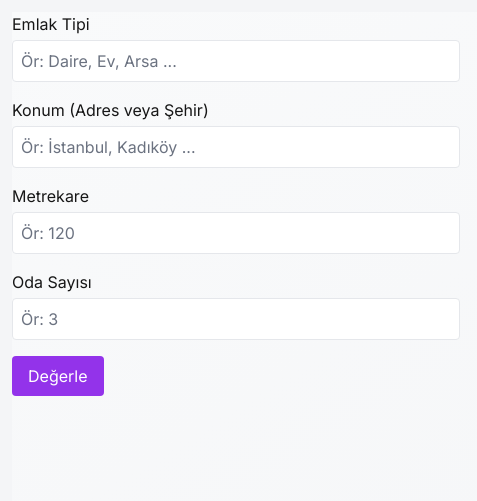
Test case: PropertyForm Bileşeni › API hatası durumunda hata mesajı gösterir
// Form alanlarını doldur ve gönder
Step 1. Type "Daire" into the field with test id "property-type-input" → (236, 61), box [12,40,460,82]
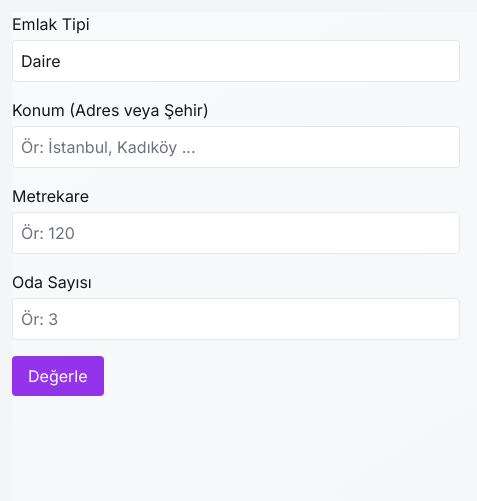
Step 2. Type "İstanbul, Kadıköy" into the field with test id "location-input" → (236, 147), box [12,126,460,168]
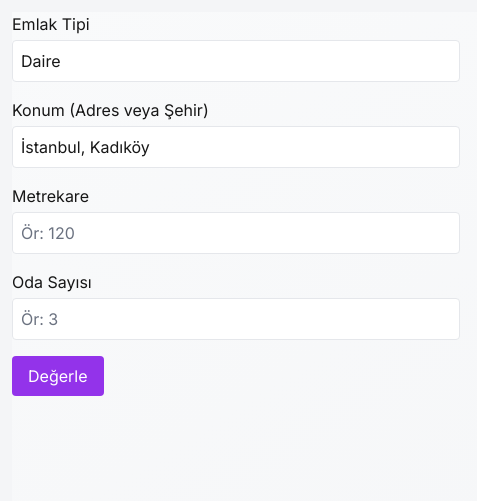
Step 3. Type "120" into the number field with test id "size-input" → (236, 233), box [12,212,460,254]
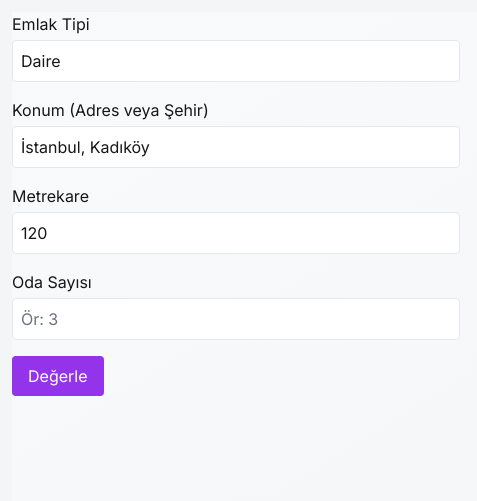
Step 4. Type "3" into the number field with test id "rooms-input" → (236, 319), box [12,298,460,340]
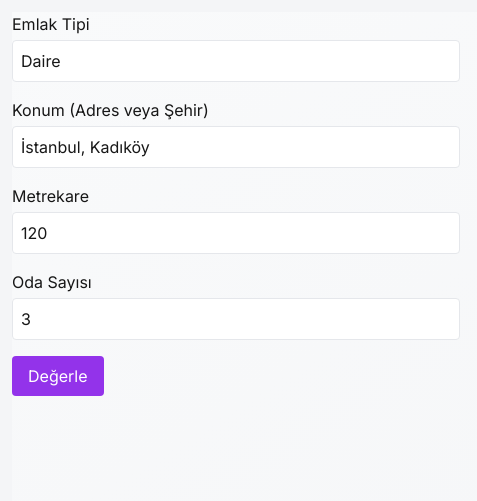
Step 5. Click the button with test id "submit-button" → (58, 376), box [12,356,104,396]
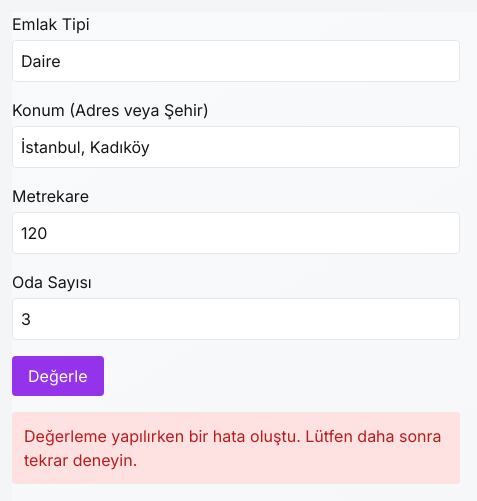
Expected: the text with test id "error-message" is shown, [12,412,460,484]
